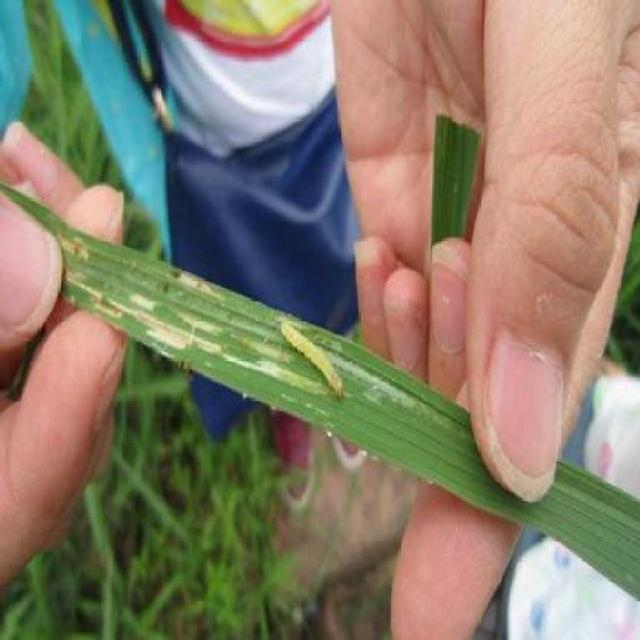leaf-folder: (271, 281, 360, 416)
